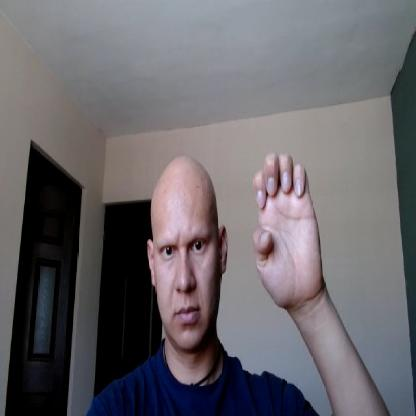E: (253, 150, 320, 304)
